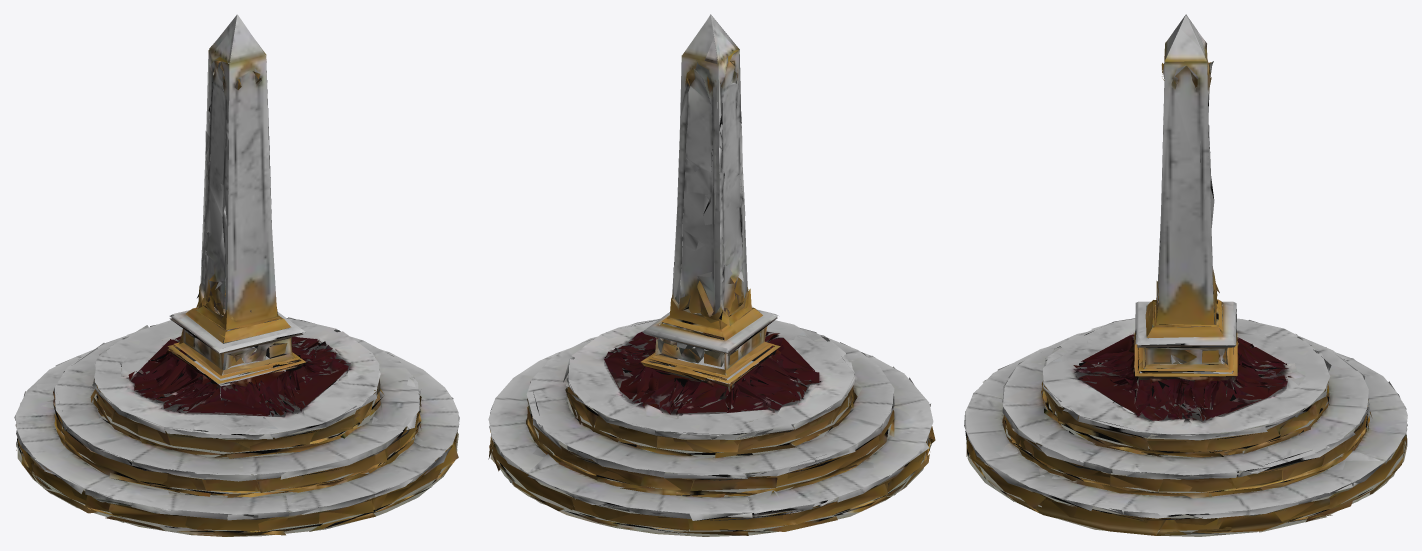
The model's file is town_stone.glb.
3 renders of one model, left to right at view 1: azimuth 30°, elevation 25°; view 2: azimuth 150°, elevation 25°; view 3: azimuth 270°, elevation 25°, orthographic.
Visible parts, largest first — view 1: town_stone; view 2: town_stone; view 3: town_stone.
Boxes of the visible parts, box(x1,y1,x2,y2) form: town_stone: box(14, 14, 459, 536); town_stone: box(488, 14, 935, 536); town_stone: box(964, 14, 1407, 536).
Size of the model in its own units: 7.41 by 7.95 by 7.4.
1 material, 1 textured.
